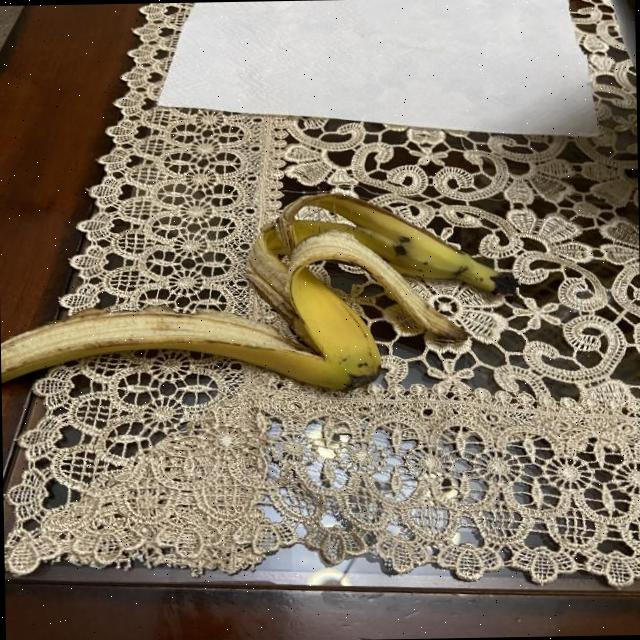banana-peel: (0, 187, 505, 397)
